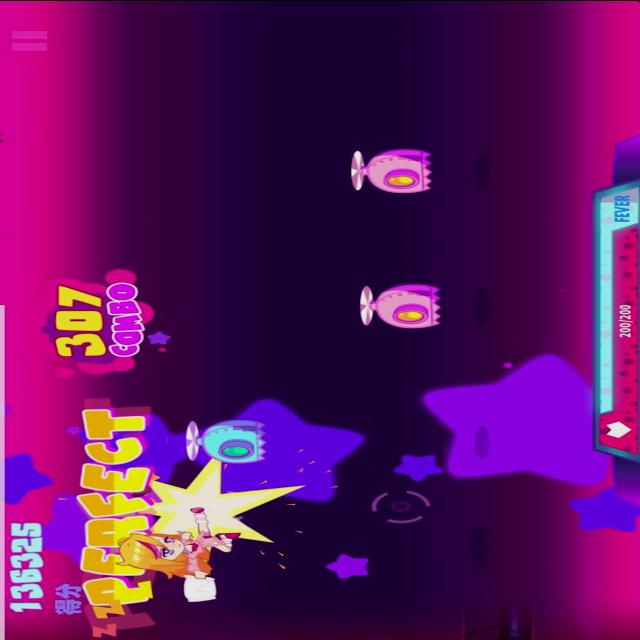jiqiqiu: (344, 144, 437, 194), (182, 415, 270, 464), (358, 278, 440, 329)
